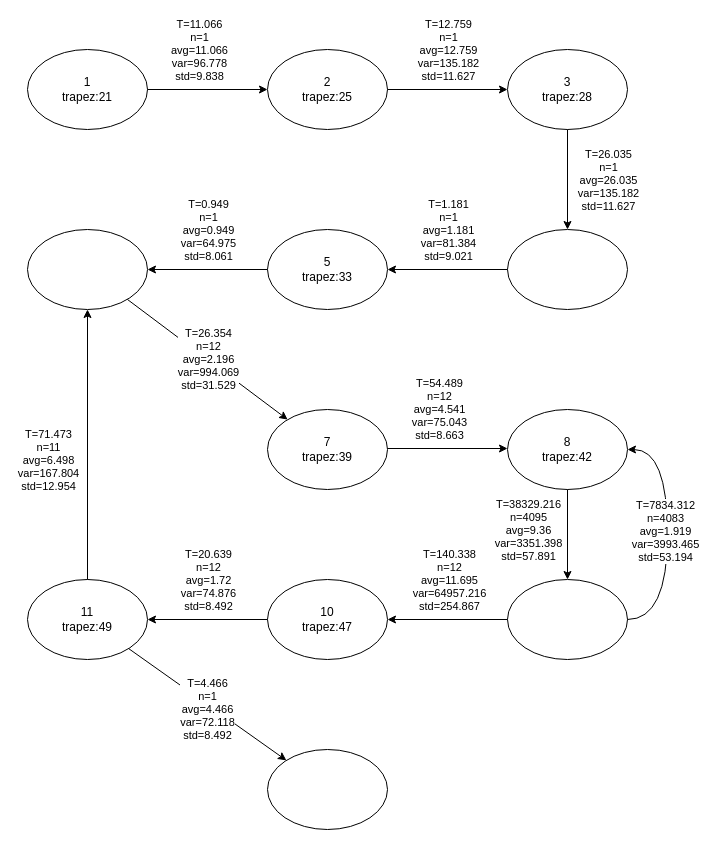
This 716x847 diagram has some shape labels left out. The shapes that lost their labels are listed below. From the top down, each one's box as (x1, y1, x2, y2) in pixels, then its label:
(26, 228, 148, 310): 6 trapez:35
(506, 228, 628, 310): 4 trapez:30
(506, 578, 628, 660): 9 trapez:45
(266, 748, 388, 830): 12 trapez:51
